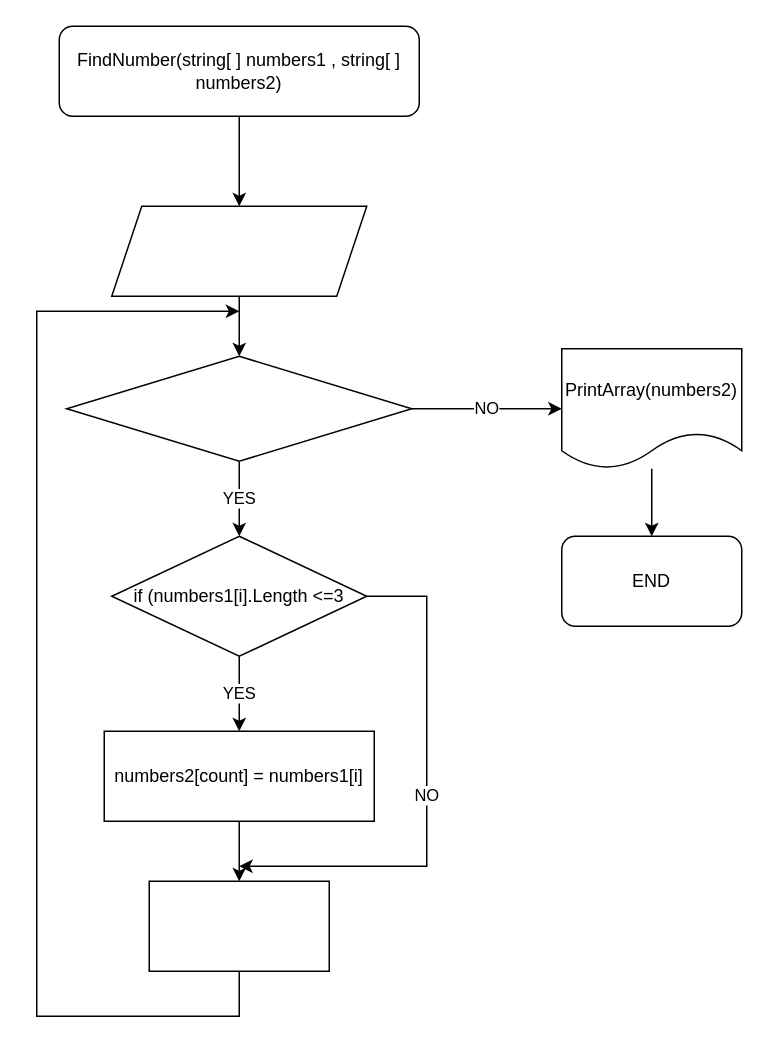
This 768x1055 diagram has some shape labels left out. Each missing label, with the centre of its shape:
"count++" belongs at point 238,925.
"for (int i = 0; i< numbers1.Length; i++" belongs at point 238,408.
"string[ ] numbers1 string[ ] number2 int count = 0" belongs at point 238,250.
